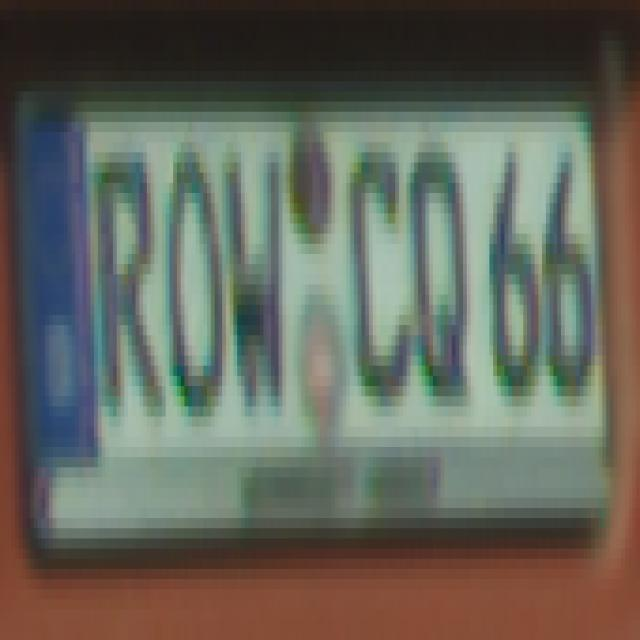Autre: (12, 96, 603, 510)
